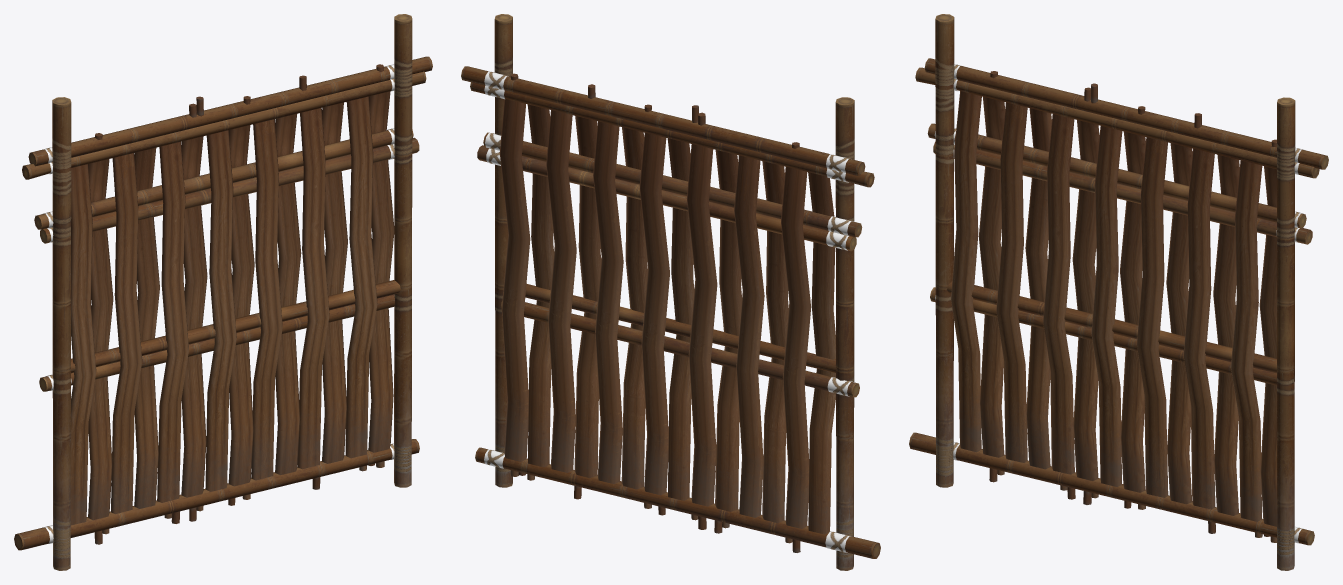
Rendered from Furniture_02_f.FBX.
3 views of the same model, side by side, from view 1: azimuth 30°, elevation 25°; view 2: azimuth 150°, elevation 25°; view 3: azimuth 330°, elevation 25° (orthographic).
Parts seen in each view (by area): view 1: Furniture_02_f; view 2: Furniture_02_f; view 3: Furniture_02_f.
Boxes of the visible parts, x1,y1,x2,y2 form: Furniture_02_f: (14,14,432,570); Furniture_02_f: (461,14,880,570); Furniture_02_f: (909,14,1328,570).
Bounding box in the file's own units: 198 × 215 × 15.87.
